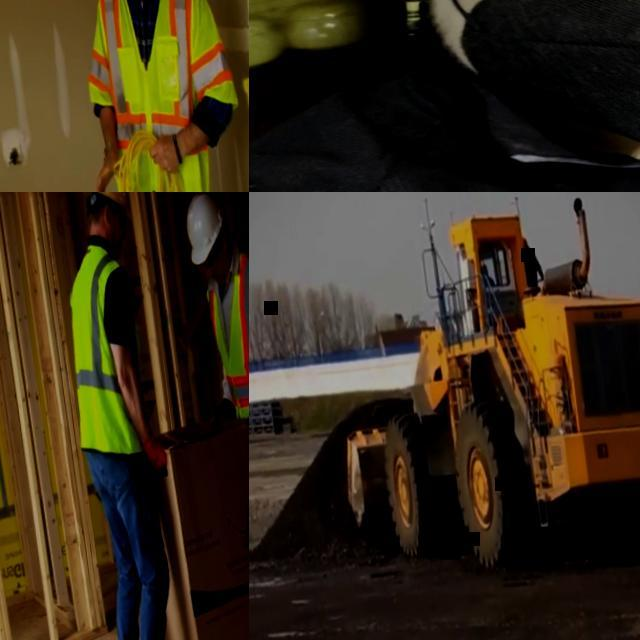helmet: (180, 192, 226, 264), (80, 192, 131, 219)
vest: (72, 0, 242, 163), (52, 247, 156, 466), (200, 242, 249, 451)
